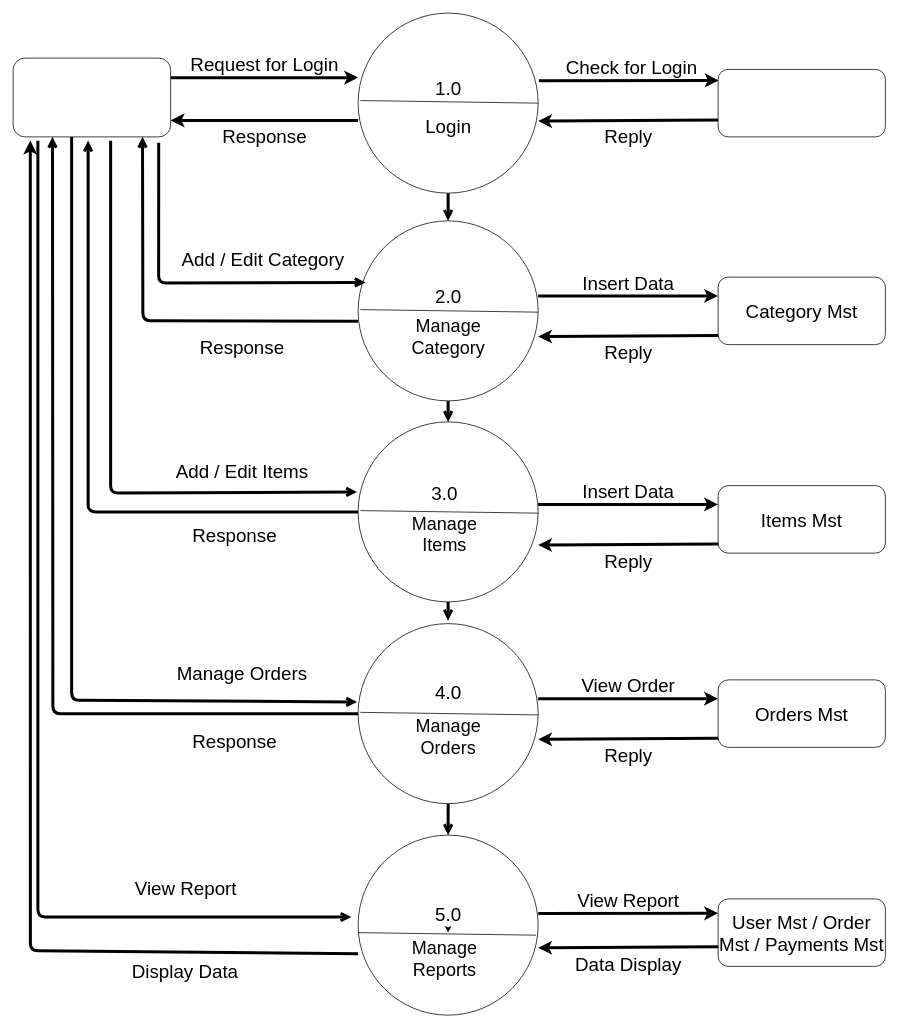
Image size: 899x1028. Some labels were removed from this diagram. Here are the shapes that lost their labels. From the top down, the centre of each, then its label:
At (91,97): "ADMIN".
At (801,103): "Admin Mst".
